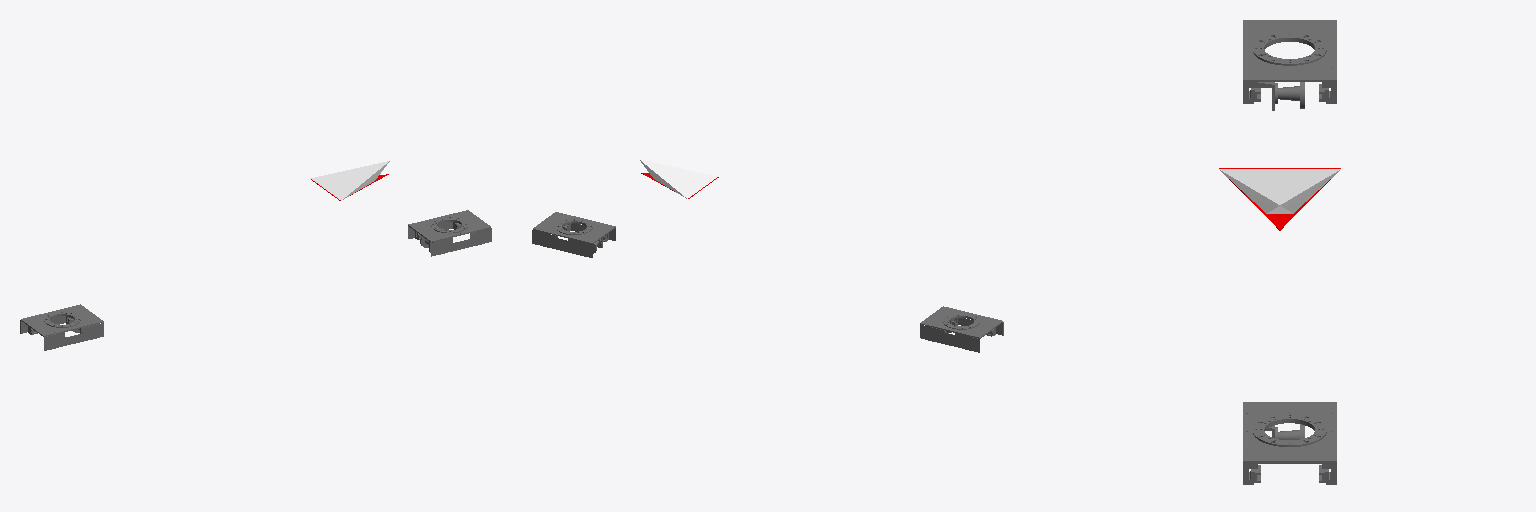
robot.urdf — abb_irb2600_trispector_on_track:
<?xml version="1.0" encoding="utf-8" ?>
<!-- =================================================================================== -->
<!-- |    This document was autogenerated by xacro from [local-path]/catkin_ws/src/abb_irb2600_trispector_on_track_support/urdf/abb_irb2600_trispector_on_track.xacro | -->
<!-- |    EDITING THIS FILE BY HAND IS NOT RECOMMENDED                                 | -->
<!-- =================================================================================== -->
<robot name="abb_irb2600_trispector_on_track">
    <!-- Conversion were obtained from http://www.e-paint.co.uk/Lab_values.asp
       unless otherwise stated. -->
    <!-- links -->
    <link name="track">
        <visual>
            <origin rpy="1.5708 0 0" xyz="0 0 0" />
            <geometry>
                <mesh filename="package://abb_irbt2005_support/meshes/visual/irbt2005.stl" />
            </geometry>
            <material name="">
                <color rgba="0.7372549 0.3490196 0.1607843 1" />
            </material>
        </visual>
        <collision>
            <origin rpy="1.5708 0 0" xyz="0 0 0" />
            <geometry>
                <mesh filename="package://abb_irbt2005_support/meshes/collision/irbt2005.stl" />
            </geometry>
        </collision>
        
<inertial>
            <mass value="0.1" />
            <inertia ixx="0.03" iyy="0.03" izz="0.03" ixy="0.0" ixz="0.0" iyz="0.0" />
        </inertial>

    </link>
    <link name="TRACK_1">
        <visual>
            <origin rpy="1.5708 0 0" xyz="0 0 0" />
            <geometry>
                <mesh filename="package://abb_irbt2005_support/meshes/visual/carriage_standard.stl" />
            </geometry>
            <material name="">
                <color rgba="0.5 0.5 0.5 1" />
            </material>
        </visual>
        <collision>
            <origin rpy="1.5708 0 0" xyz="0 0 0" />
            <geometry>
                <mesh filename="package://abb_irbt2005_support/meshes/collision/carriage_standard.stl" />
            </geometry>
        </collision>
        
<inertial>
            <mass value="0.1" />
            <inertia ixx="0.03" iyy="0.03" izz="0.03" ixy="0.0" ixz="0.0" iyz="0.0" />
        </inertial>

    </link>
    <link name="TRACK_2">
        <visual>
            <origin rpy="1.5708 0 0" xyz="0 0 0" />
            <geometry>
                <mesh filename="package://abb_irbt2005_support/meshes/visual/carriage_mirrored.stl" />
            </geometry>
            <material name="">
                <color rgba="0.5 0.5 0.5 1" />
            </material>
        </visual>
        <collision>
            <origin rpy="1.5708 0 0" xyz="0 0 0" />
            <geometry>
                <mesh filename="package://abb_irbt2005_support/meshes/collision/carriage_mirrored.stl" />
            </geometry>
        </collision>
        
<inertial>
            <mass value="0.1" />
            <inertia ixx="0.03" iyy="0.03" izz="0.03" ixy="0.0" ixz="0.0" iyz="0.0" />
        </inertial>

    </link>
    <!-- Joints -->
    <joint name="track_joint_1" type="prismatic">
        <origin rpy="0 0 0" xyz="-0.40 -0.5 -0.5" />
        <parent link="track" />
        <child link="TRACK_1" />
        <axis xyz="-1 0 0" />
        <limit effort="0" lower="0" upper="5.5" velocity="1" />
    </joint>
    <joint name="track_joint_2" type="prismatic">
        <origin rpy="0 0 0" xyz="-7.25 -0.5 -0.5" />
        <parent link="track" />
        <child link="TRACK_2" />
        <axis xyz="1 0 0" />
        <limit effort="0" lower="0" upper="5.5" velocity="1" />
    </joint>
    <!-- ROS base_link to ABB World Coordinates transform -->
    <link name="track_base" />
    <joint name="track_base_link-base" type="fixed">
        <origin rpy="0 0 0" xyz="0 0 0" />
        <parent link="track" />
        <child link="track_base" />
    </joint>
    <!-- Conversion were obtained from http://www.e-paint.co.uk/Lab_values.asp
       unless otherwise stated. -->
    <!-- links -->
    <link name="base_link">
        <visual>
            <origin rpy="0 0 0" xyz="0 0 0" />
            <geometry>
                <mesh filename="package://abb_irb2600_gazebo_support/meshes/irb2600_12_165/visual/base_link.stl" />
            </geometry>
            <material name="">
                <color rgba="0.7372549 0.3490196 0.1607843 1" />
            </material>
        </visual>
        <collision>
            <origin rpy="0 0 0" xyz="0 0 0" />
            <geometry>
                <mesh filename="package://abb_irb2600_gazebo_support/meshes/irb2600_12_165/collision/base_link.stl" />
            </geometry>
        </collision>
        
<inertial>
            <mass value="0.1" />
            <inertia ixx="0.03" iyy="0.03" izz="0.03" ixy="0.0" ixz="0.0" iyz="0.0" />
        </inertial>

    </link>
    <link name="link_1">
        <visual>
            <origin rpy="0 0 0" xyz="0 0 0" />
            <geometry>
                <mesh filename="package://abb_irb2600_gazebo_support/meshes/irb2600_12_165/visual/link_1.stl" />
            </geometry>
            <material name="">
                <color rgba="0.7372549 0.3490196 0.1607843 1" />
            </material>
        </visual>
        <collision>
            <origin rpy="0 0 0" xyz="0 0 0" />
            <geometry>
                <mesh filename="package://abb_irb2600_gazebo_support/meshes/irb2600_12_165/collision/link_1.stl" />
            </geometry>
        </collision>
        
<inertial>
            <mass value="0.1" />
            <inertia ixx="0.03" iyy="0.03" izz="0.03" ixy="0.0" ixz="0.0" iyz="0.0" />
        </inertial>

    </link>
    <link name="link_2">
        <visual>
            <origin rpy="0 0 0" xyz="0 0 0" />
            <geometry>
                <mesh filename="package://abb_irb2600_gazebo_support/meshes/irb2600_12_165/visual/link_2.stl" />
            </geometry>
            <material name="">
                <color rgba="0.7372549 0.3490196 0.1607843 1" />
            </material>
        </visual>
        <collision>
            <origin rpy="0 0 0" xyz="0 0 0" />
            <geometry>
                <mesh filename="package://abb_irb2600_gazebo_support/meshes/irb2600_12_165/collision/link_2.stl" />
            </geometry>
        </collision>
        
<inertial>
            <mass value="0.1" />
            <inertia ixx="0.03" iyy="0.03" izz="0.03" ixy="0.0" ixz="0.0" iyz="0.0" />
        </inertial>

    </link>
    <link name="link_3">
        <visual>
            <origin rpy="0 0 0" xyz="0 0 0" />
            <geometry>
                <mesh filename="package://abb_irb2600_gazebo_support/meshes/irb2600_12_165/visual/link_3.stl" />
            </geometry>
            <material name="">
                <color rgba="0.7372549 0.3490196 0.1607843 1" />
            </material>
        </visual>
        <collision>
            <origin rpy="0 0 0" xyz="0 0 0" />
            <geometry>
                <mesh filename="package://abb_irb2600_gazebo_support/meshes/irb2600_12_165/collision/link_3.stl" />
            </geometry>
        </collision>
        
<inertial>
            <mass value="0.1" />
            <inertia ixx="0.03" iyy="0.03" izz="0.03" ixy="0.0" ixz="0.0" iyz="0.0" />
        </inertial>

    </link>
    <link name="link_4">
        <visual>
            <origin rpy="0 0 0" xyz="0 0 0" />
            <geometry>
                <mesh filename="package://abb_irb2600_gazebo_support/meshes/irb2600_12_165/visual/link_4.stl" />
            </geometry>
            <material name="">
                <color rgba="0.7372549 0.3490196 0.1607843 1" />
            </material>
        </visual>
        <collision>
            <origin rpy="0 0 0" xyz="0 0 0" />
            <geometry>
                <mesh filename="package://abb_irb2600_gazebo_support/meshes/irb2600_12_165/collision/link_4.stl" />
            </geometry>
        </collision>
        
<inertial>
            <mass value="0.1" />
            <inertia ixx="0.03" iyy="0.03" izz="0.03" ixy="0.0" ixz="0.0" iyz="0.0" />
        </inertial>

    </link>
    <link name="link_5">
        <visual>
            <origin rpy="0 0 0" xyz="0 0 0" />
            <geometry>
                <mesh filename="package://abb_irb2600_gazebo_support/meshes/irb2600_12_165/visual/link_5.stl" />
            </geometry>
            <material name="">
                <color rgba="0.7372549 0.3490196 0.1607843 1" />
            </material>
        </visual>
        <collision>
            <origin rpy="0 0 0" xyz="0 0 0" />
            <geometry>
                <mesh filename="package://abb_irb2600_gazebo_support/meshes/irb2600_12_165/collision/link_5.stl" />
            </geometry>
        </collision>
        
<inertial>
            <mass value="0.1" />
            <inertia ixx="0.03" iyy="0.03" izz="0.03" ixy="0.0" ixz="0.0" iyz="0.0" />
        </inertial>

    </link>
    <link name="link_6">
        <visual>
            <origin rpy="0 0 0" xyz="0 0 0" />
            <geometry>
                <mesh filename="package://abb_irb2600_gazebo_support/meshes/irb2600_12_165/visual/link_6.stl" />
            </geometry>
            <material name="">
                <color rgba="0.5 0.5 0.5 1" />
            </material>
        </visual>
        <collision>
            <origin rpy="0 0 0" xyz="0 0 0" />
            <geometry>
                <mesh filename="package://abb_irb2600_gazebo_support/meshes/irb2600_12_165/collision/link_6.stl" />
            </geometry>
        </collision>
        
<inertial>
            <mass value="0.1" />
            <inertia ixx="0.03" iyy="0.03" izz="0.03" ixy="0.0" ixz="0.0" iyz="0.0" />
        </inertial>

    </link>
    <!-- Joints -->
    <joint name="joint_1" type="revolute">
        <origin rpy="0 0 0" xyz="0 0 0.445" />
        <parent link="base_link" />
        <child link="link_1" />
        <axis xyz="0 0 1" />
        <limit effort="0" lower="-3.14159" upper="3.14159" velocity="3.054" />
    </joint>
    <joint name="joint_2" type="revolute">
        <origin rpy="0 0 0" xyz="0.15 0 0.0" />
        <parent link="link_1" />
        <child link="link_2" />
        <axis xyz="0 1 0" />
        <limit effort="0" lower="-2.705" upper="1.658" velocity="3.054" />
    </joint>
    <joint name="joint_3" type="revolute">
        <origin rpy="0 0 0" xyz="0 0 0.7" />
        <parent link="link_2" />
        <child link="link_3" />
        <axis xyz="0 1 0" />
        <limit effort="0" lower="-2.705" upper="1.309" velocity="3.054" />
    </joint>
    <joint name="joint_4" type="revolute">
        <origin rpy="0 0 0" xyz="0 0 0.115" />
        <parent link="link_3" />
        <child link="link_4" />
        <axis xyz="1 0 0" />
        <limit effort="0" lower="-6.981" upper="6.981" velocity="6.283" />
    </joint>
    <joint name="joint_5" type="revolute">
        <origin rpy="0 0 0" xyz="0.795 0 0 " />
        <parent link="link_4" />
        <child link="link_5" />
        <axis xyz="0 1 0" />
        <limit effort="0" lower="-2.094" upper="2.094" velocity="6.283" />
    </joint>
    <joint name="joint_6" type="revolute">
        <origin rpy="0 0 0" xyz="0.085 0 0" />
        <parent link="link_5" />
        <child link="link_6" />
        <axis xyz="1 0 0" />
        <limit effort="0" lower="-6.981" upper="6.981" velocity="8.727" />
    </joint>
    <!-- ROS-Industrial 'base' frame: base_link to ABB World Coordinates transform -->
    <link name="base" />
    <joint name="base_link-base" type="fixed">
        <origin rpy="0 0 0" xyz="0 0 0" />
        <parent link="base_link" />
        <child link="base" />
    </joint>
    <!-- ROS-Industrial 'flange' frame: attachment point for EEF models -->
    <link name="flange" />
    <joint name="joint_6-flange" type="fixed">
        <origin rpy="0 0 0" xyz="0 0 0" />
        <parent link="link_6" />
        <child link="flange" />
    </joint>
    <!-- ROS-Industrial 'tool0' frame: all-zeros tool frame -->
    <link name="tool0" />
    <joint name="link_6-tool0" type="fixed">
        <origin rpy="0 1.57079632679 0" xyz="0 0 0" />
        <parent link="flange" />
        <child link="tool0" />
    </joint>
    <!-- Links -->
    <link name="eff_frame" />
    <link name="trispector">
        <visual>
            <origin rpy="0 0 0" xyz="0 0 0" />
            <geometry>
                <mesh filename="package://trispector_1060_support/meshes/visual/trispector_with_plate.stl" />
            </geometry>
            <material name="Blue">
                <color rgba="0.35 0.69 0.98 1.0" />
            </material>
        </visual>
        <collision>
            <origin rpy="0 0 0" xyz="0 0 0" />
            <geometry>
                <mesh filename="package://trispector_1060_support/meshes/collision/trispector_with_plate_bounding_box.stl" />
            </geometry>
        </collision>
        <inertia ixx="0.0" ixy="0.0" ixz="0.0" iyy="0.0" iyz="0.0" izz="0.0" />
        
<inertial>
            <mass value="0.1" />
            <inertia ixx="0.03" iyy="0.03" izz="0.03" ixy="0.0" ixz="0.0" iyz="0.0" />
        </inertial>

    </link>
    <joint name="eff_frame_to_trispector" type="fixed">
        <parent link="eff_frame" />
        <child link="trispector" />
        <origin rpy="0.0 0.0 0.0" xyz="0.0 0.0 0.0" />
    </joint>
    <link name="tcp" />
    <joint name="joint_tcp" type="fixed">
        <origin rpy="1.5708 0 1.5708" xyz="0.088 0.0 0.075" />
        <parent link="trispector" />
        <child link="tcp" />
    </joint>
    <link name="scan_area_origin" type="fixed" />
    <joint name="joint_scan_area_origin" type="fixed">
        <origin rpy="-1.5708 0 -1.5708" xyz="0.149 0.0 -0.04225" />
        <parent link="tcp" />
        <child link="scan_area_origin" />
    </joint>
    <link name="scan_area">
        <visual>
            <origin rpy="0 0 0" xyz="0 0 0" />
            <geometry>
                <mesh filename="package://trispector_1060_support/meshes/visual/trispector_scan_area.stl" />
            </geometry>
            <material name="Grey">
                <color rgba="235.0 235.0 235.0 0.3" />
            </material>
        </visual>
        <collision>
            <origin rpy="0 0 0" xyz="0 0 0" />
            <geometry>
                <box size="0.001 0.001 0.001" />
            </geometry>
        </collision>
        <inertia ixx="0.0" ixy="0.0" ixz="0.0" iyy="0.0" iyz="0.0" izz="0.0" />
        
<inertial>
            <mass value="0.1" />
            <inertia ixx="0.03" iyy="0.03" izz="0.03" ixy="0.0" ixz="0.0" iyz="0.0" />
        </inertial>

    </link>
    <link name="laser_area">
        <visual>
            <origin rpy="0 0 0" xyz="0 0 0" />
            <geometry>
                <mesh filename="package://trispector_1060_support/meshes/visual/trispector_laser_area.stl" />
            </geometry>
            <material name="Red">
                <color rgba="200.0 0.0 0.0 0.4" />
            </material>
        </visual>
        <collision>
            <origin rpy="0 0 0" xyz="0 0 0" />
            <geometry>
                <box size="0.001 0.001 0.001" />
            </geometry>
        </collision>
        <inertia ixx="0.0" ixy="0.0" ixz="0.0" iyy="0.0" iyz="0.0" izz="0.0" />
        
<inertial>
            <mass value="0.1" />
            <inertia ixx="0.03" iyy="0.03" izz="0.03" ixy="0.0" ixz="0.0" iyz="0.0" />
        </inertial>

    </link>
    <joint name="origin_to_scan_area" type="fixed">
        <parent link="scan_area_origin" />
        <child link="scan_area" />
        <origin rpy="0.0 0.0 0.0" xyz="0.0 0.0 0.0" />
    </joint>
    <joint name="origin_to_laser_area" type="fixed">
        <parent link="scan_area_origin" />
        <child link="laser_area" />
        <origin rpy="0.0 0.0 0.0" xyz="0.0 0.0 0.0" />
    </joint>
    <!-- Links -->
    <!-- <link name="world" />
    <link name="camera_frame" /> -->
    <!-- Joints -->
    <joint name="robot_to_eff" type="fixed">
        <parent link="tool0" />
        <child link="eff_frame" />
        <origin rpy="-1.5708 -1.5708 0.0" xyz="0.0 0.0 0.0" />
    </joint>
    <!-- <joint name="world_to_robot" type="fixed">
        <parent link="world" />
        <child link="base_link" />
        <origin xyz="0.0 0.0 0.0" rpy="0.0 0.0 0.0" />
    </joint> 

    <joint name="world_to_camera" type="fixed">
        <parent link="world" />
        <child link="camera_frame" />
        <origin xyz="-0.25 -0.5 1.25" rpy="0.0 3.14159 0.0" />
    </joint> -->
    <!-- links -->
    <link name="world" />
    <link name="camera_frame" />
    <!-- Joints -->
    <joint name="transporter_to_robot" type="fixed">
        <origin rpy="0 0 3.1416" xyz="-0.05 0 0.45" />
        <parent link="TRACK_1" />
        <child link="base_link" />
    </joint>
    <joint name="world_to_track" type="fixed">
        <origin rpy="0 0 0" xyz="0 0 0" />
        <parent link="world" />
        <child link="track" />
    </joint>
    <joint name="world_to_camera" type="fixed">
        <parent link="world" />
        <child link="camera_frame" />
        <origin rpy="0.0 3.14159 0.0" xyz="-0.25 -0.5 1.25" />
    </joint>
    
<transmission name="trans_track_joint_1">
        <type>transmission_interface/SimpleTransmission</type>
        <joint name="track_joint_1">
            <hardwareInterface>hardware_interface/EffortJointInterface</hardwareInterface>
        </joint>
        <actuator name="track_joint_1_motor">
            <hardwareInterface>hardware_interface/EffortJointInterface</hardwareInterface>
            <mechanicalReduction>1</mechanicalReduction>
        </actuator>
    </transmission>
    <transmission name="trans_track_joint_2">
        <type>transmission_interface/SimpleTransmission</type>
        <joint name="track_joint_2">
            <hardwareInterface>hardware_interface/EffortJointInterface</hardwareInterface>
        </joint>
        <actuator name="track_joint_2_motor">
            <hardwareInterface>hardware_interface/EffortJointInterface</hardwareInterface>
            <mechanicalReduction>1</mechanicalReduction>
        </actuator>
    </transmission>
    <transmission name="trans_joint_1">
        <type>transmission_interface/SimpleTransmission</type>
        <joint name="joint_1">
            <hardwareInterface>hardware_interface/EffortJointInterface</hardwareInterface>
        </joint>
        <actuator name="joint_1_motor">
            <hardwareInterface>hardware_interface/EffortJointInterface</hardwareInterface>
            <mechanicalReduction>1</mechanicalReduction>
        </actuator>
    </transmission>
    <transmission name="trans_joint_2">
        <type>transmission_interface/SimpleTransmission</type>
        <joint name="joint_2">
            <hardwareInterface>hardware_interface/EffortJointInterface</hardwareInterface>
        </joint>
        <actuator name="joint_2_motor">
            <hardwareInterface>hardware_interface/EffortJointInterface</hardwareInterface>
            <mechanicalReduction>1</mechanicalReduction>
        </actuator>
    </transmission>
    <transmission name="trans_joint_3">
        <type>transmission_interface/SimpleTransmission</type>
        <joint name="joint_3">
            <hardwareInterface>hardware_interface/EffortJointInterface</hardwareInterface>
        </joint>
        <actuator name="joint_3_motor">
            <hardwareInterface>hardware_interface/EffortJointInterface</hardwareInterface>
            <mechanicalReduction>1</mechanicalReduction>
        </actuator>
    </transmission>
    <transmission name="trans_joint_4">
        <type>transmission_interface/SimpleTransmission</type>
        <joint name="joint_4">
            <hardwareInterface>hardware_interface/EffortJointInterface</hardwareInterface>
        </joint>
        <actuator name="joint_4_motor">
            <hardwareInterface>hardware_interface/EffortJointInterface</hardwareInterface>
            <mechanicalReduction>1</mechanicalReduction>
        </actuator>
    </transmission>
    <transmission name="trans_joint_5">
        <type>transmission_interface/SimpleTransmission</type>
        <joint name="joint_5">
            <hardwareInterface>hardware_interface/EffortJointInterface</hardwareInterface>
        </joint>
        <actuator name="joint_5_motor">
            <hardwareInterface>hardware_interface/EffortJointInterface</hardwareInterface>
            <mechanicalReduction>1</mechanicalReduction>
        </actuator>
    </transmission>
    <transmission name="trans_joint_6">
        <type>transmission_interface/SimpleTransmission</type>
        <joint name="joint_6">
            <hardwareInterface>hardware_interface/EffortJointInterface</hardwareInterface>
        </joint>
        <actuator name="joint_6_motor">
            <hardwareInterface>hardware_interface/EffortJointInterface</hardwareInterface>
            <mechanicalReduction>1</mechanicalReduction>
        </actuator>
    </transmission>
    <gazebo>
        <plugin name="gazebo_ros_control" filename="libgazebo_ros_control.so">
            <robotNamespace>/</robotNamespace>
        </plugin>
    </gazebo>
</robot>

--- What the picture shows (computed from the rendered views, not written in the file) ---
3 views of the same robot in one strip: view 1: azimuth 30°, elevation 25°; view 2: azimuth 150°, elevation 25°; view 3: azimuth 270°, elevation 25° (orthographic).
Robot: abb_irb2600_trispector_on_track — 22 links, 21 joints (6 revolute, 2 prismatic, 13 fixed); root link world; default pose: all joints at 0.
Links seen in each view (by area): view 1: TRACK_1, TRACK_2, scan_area; view 2: TRACK_1, TRACK_2, scan_area; view 3: TRACK_2, TRACK_1, scan_area, laser_area.
Link boxes in pixels (x1=…): TRACK_1: x1=408, y1=210, x2=491, y2=256; TRACK_2: x1=20, y1=304, x2=103, y2=350; scan_area: x1=310, y1=161, x2=389, y2=200; TRACK_1: x1=532, y1=212, x2=615, y2=257; TRACK_2: x1=920, y1=306, x2=1003, y2=352; scan_area: x1=639, y1=159, x2=716, y2=198; TRACK_2: x1=1243, y1=20, x2=1336, y2=110; TRACK_1: x1=1243, y1=402, x2=1336, y2=484; scan_area: x1=1219, y1=169, x2=1340, y2=213; laser_area: x1=1219, y1=168, x2=1340, y2=230.
Size in the robot's own frame: 7.79 by 0.9292 by 1.68 metres.
Meshes: 13 distinct files referenced, 4 mesh visuals loaded (4 binary STL); not drawn: 9 (reference not matched to a file when rendering).